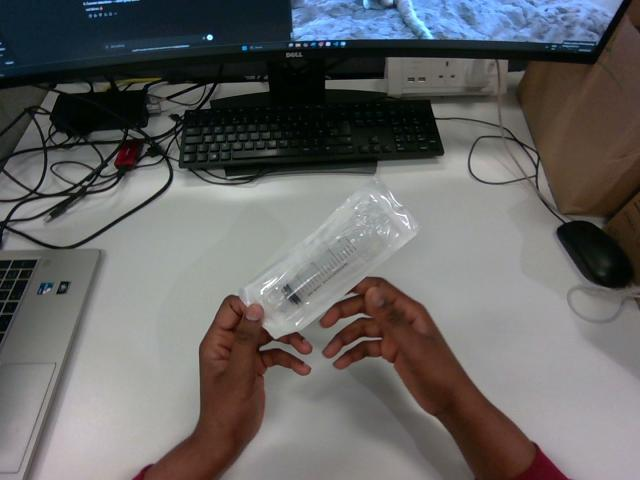syringe: (240, 177, 418, 337)
